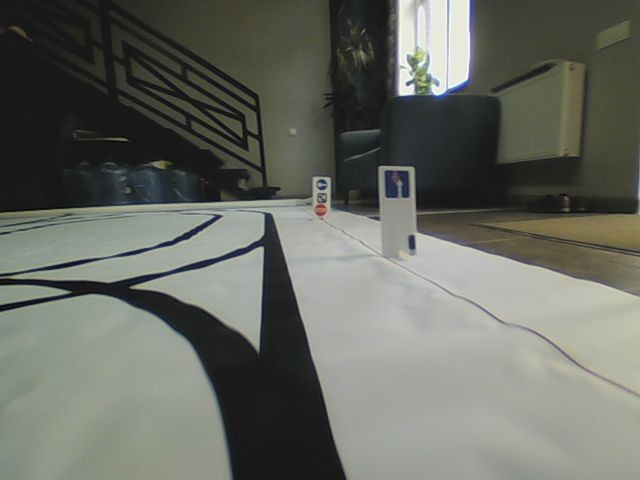priority_movement: (384, 170, 410, 198)
